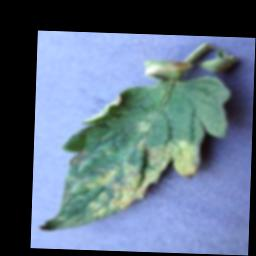Leaf_Mold: (80, 135, 203, 224)
